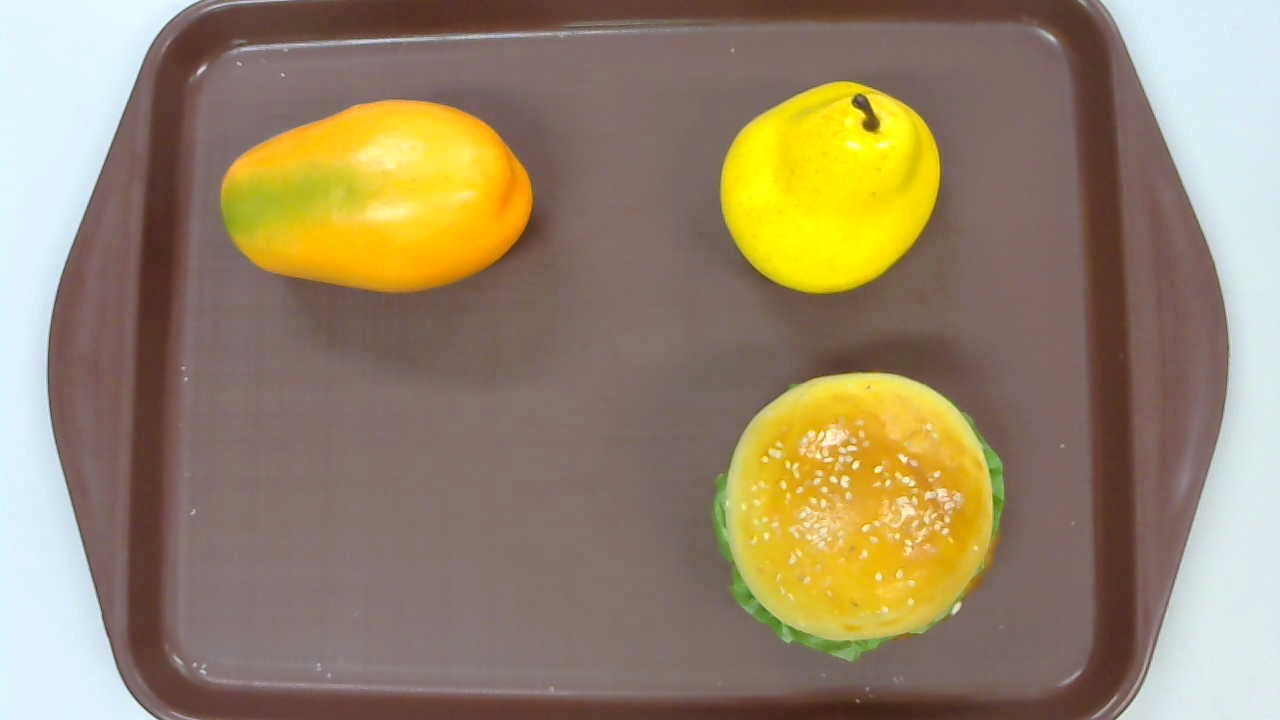hamburger: (714, 371, 1007, 662)
papaya: (220, 100, 532, 296)
yellow pear: (720, 81, 941, 296)
